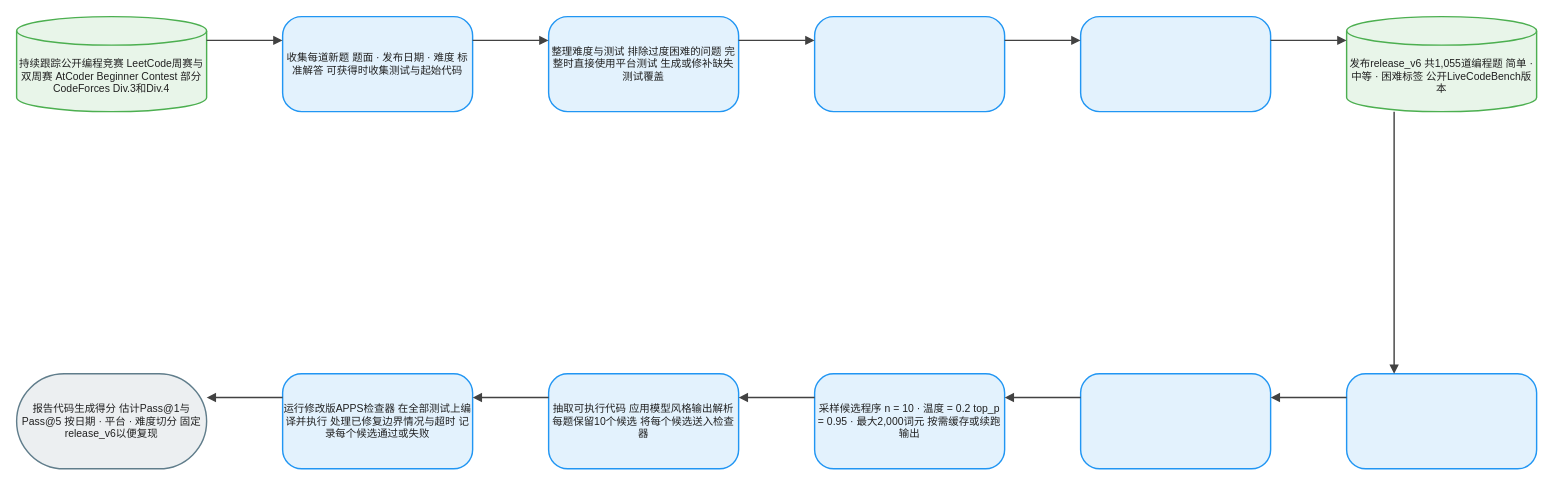
Some shapes in this 1554 by 486 pixel diagram are drawn without their labels. The centre of each missing label's shape, as x and y in pixels:
扩展持续更新的基准 纳入自2023年5月起的问题 持续收录至2025年4月 保留日期用于时间窗口评分: (1175,63)
构造模型专用提示词 区分函数式与标准输入格式 应用配置的模型风格 要求仅输出完整解答: (1175,421)
标准化代码生成实例 自然语言题面与示例 函数式或标准输入约定 以未见测试判断功能正确性: (909,63)
选择测试套件 默认 · 裁剪版code_generation_lite 更快且表现估计相近 --not_fast · 原始完整测试: (1441,421)
